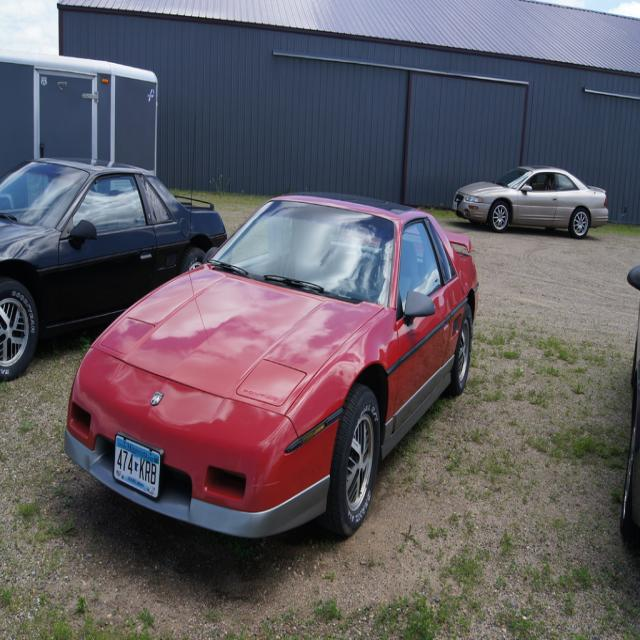car: (65, 192, 478, 539), (453, 162, 607, 236)
